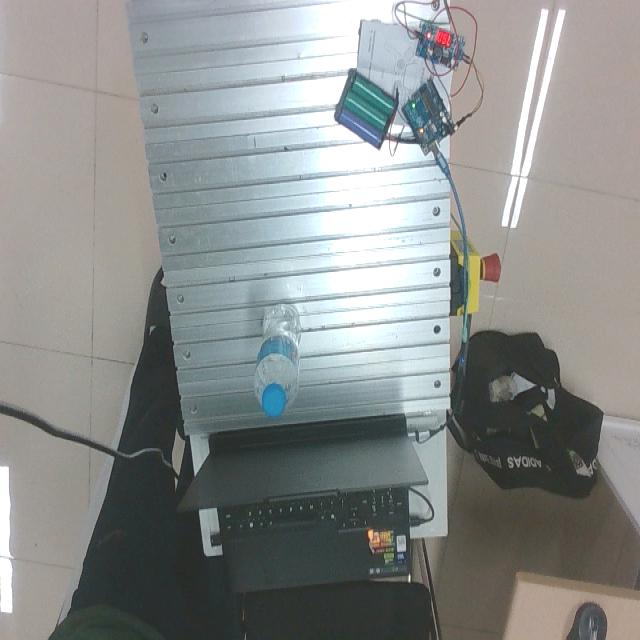lavie: (255, 304, 302, 417)
